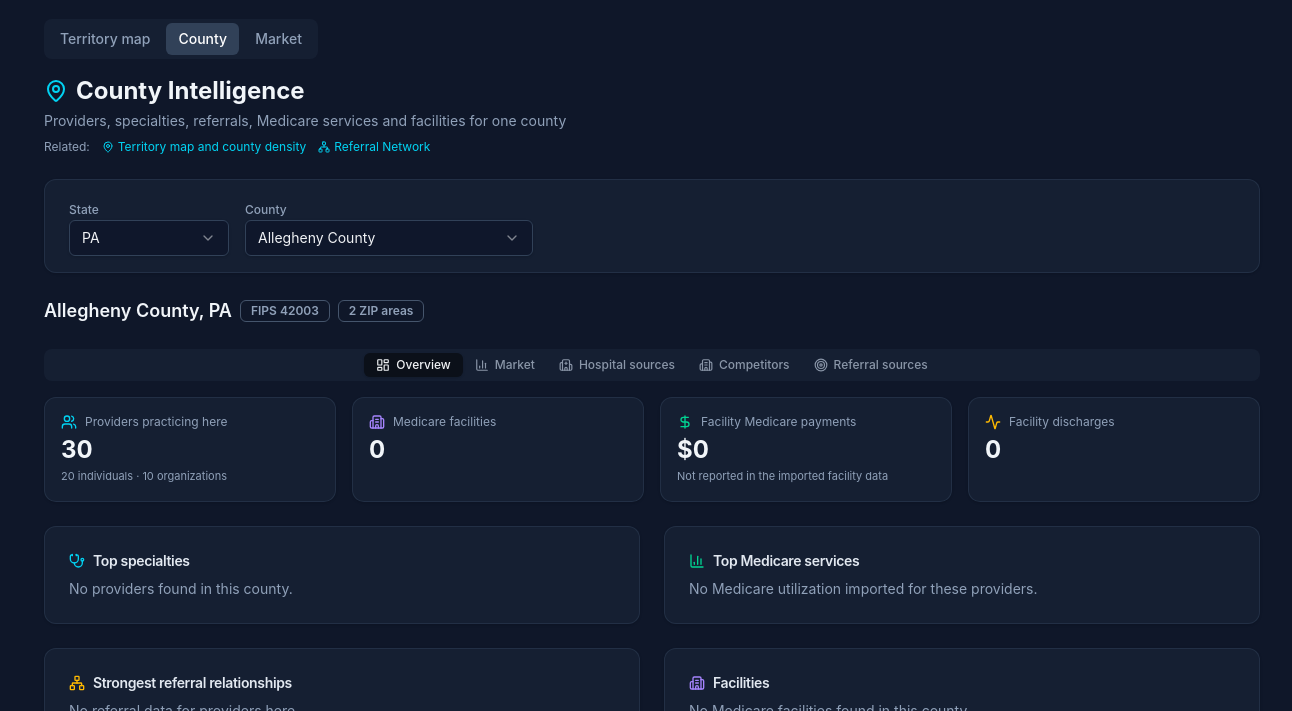
Test: CountyIntelligence market tabs › switches to the market profile through the tab strip, keeping the tab in the URL
Expected: the heading "Allegheny County, PA" is shown, [44,297,232,325]
Press the mouse on the tab "Market": (505,365) [463,353,547,377]
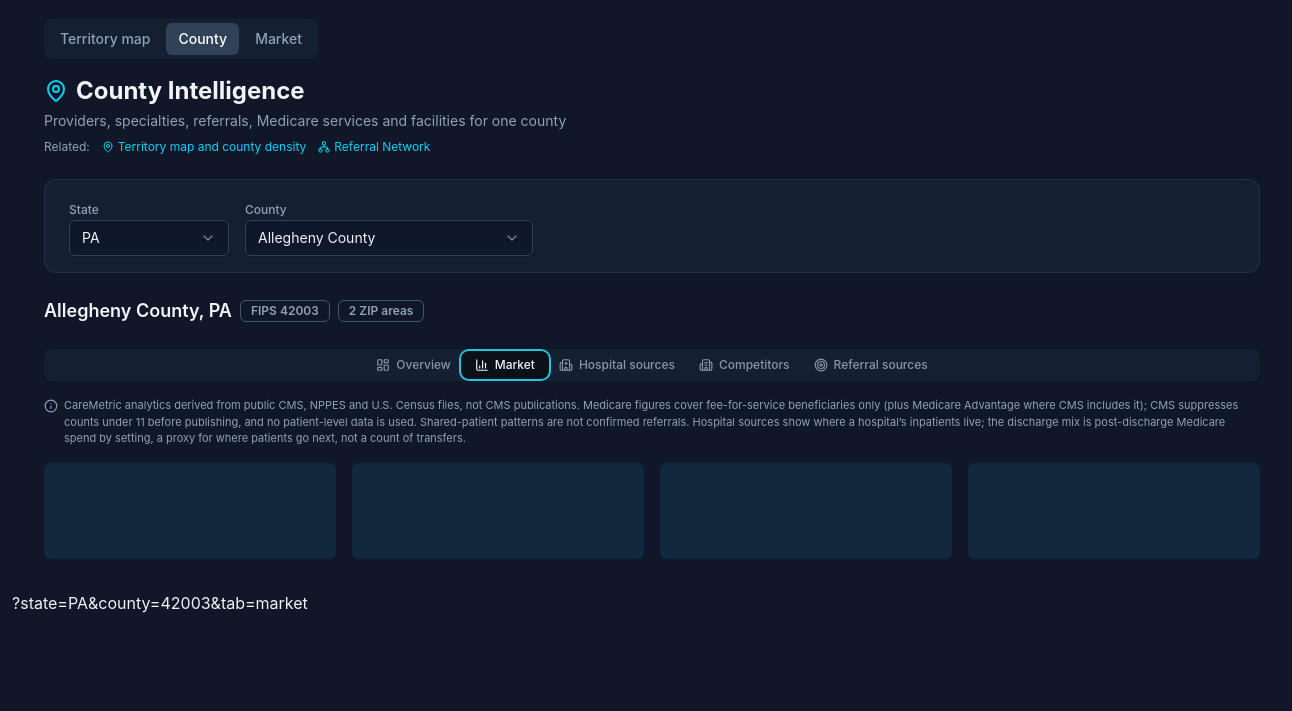
Click the tab "Market": (505,365) [463,353,547,377]
(page scrolled)
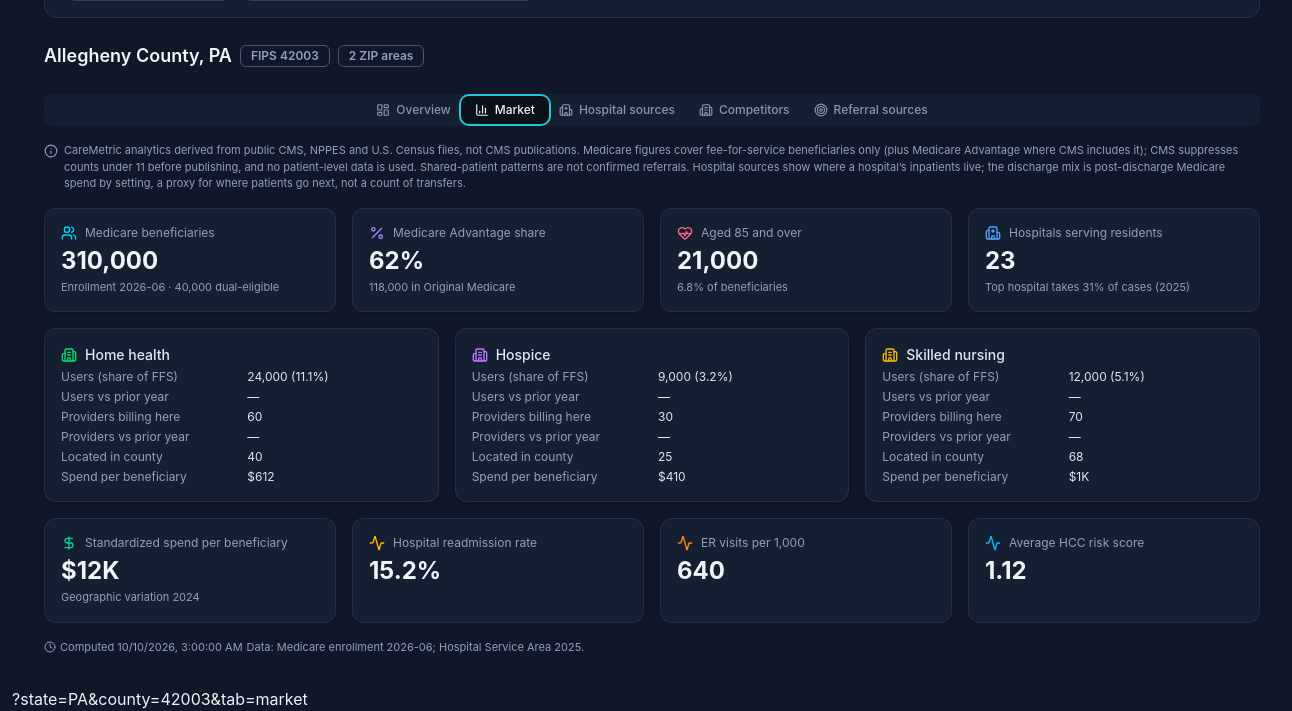
Result: the text with test id "url" shows "tab=market" at [12,689,308,709]
Result: the text "Medicare beneficiaries" is shown at [85,224,215,240]
Result: the text "310,000" is shown at [61,246,158,274]
